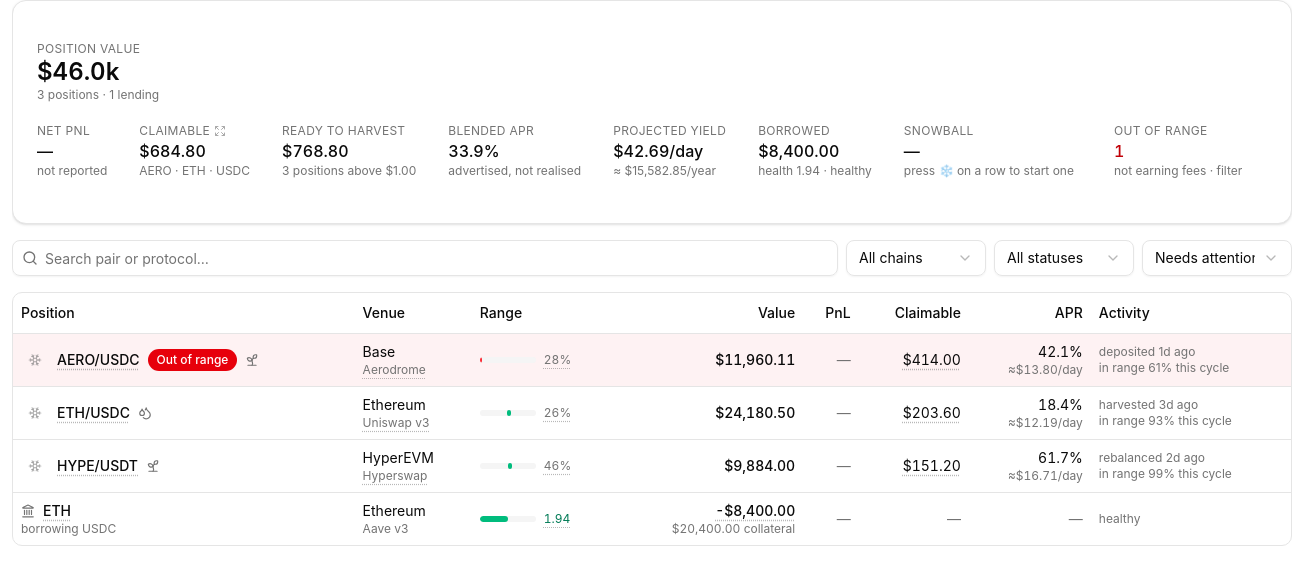
DeFi › shows the snowball total and what this page contributes to it
Expected: the text "Snowball" is shown, [904,123,974,138]
Expected: the text "press ❄ on a row to start one" is shown, [904,163,1074,179]
Click the button named "Add AERO/USDC to snowball".
click(35, 360)  # box [21,346,49,374]
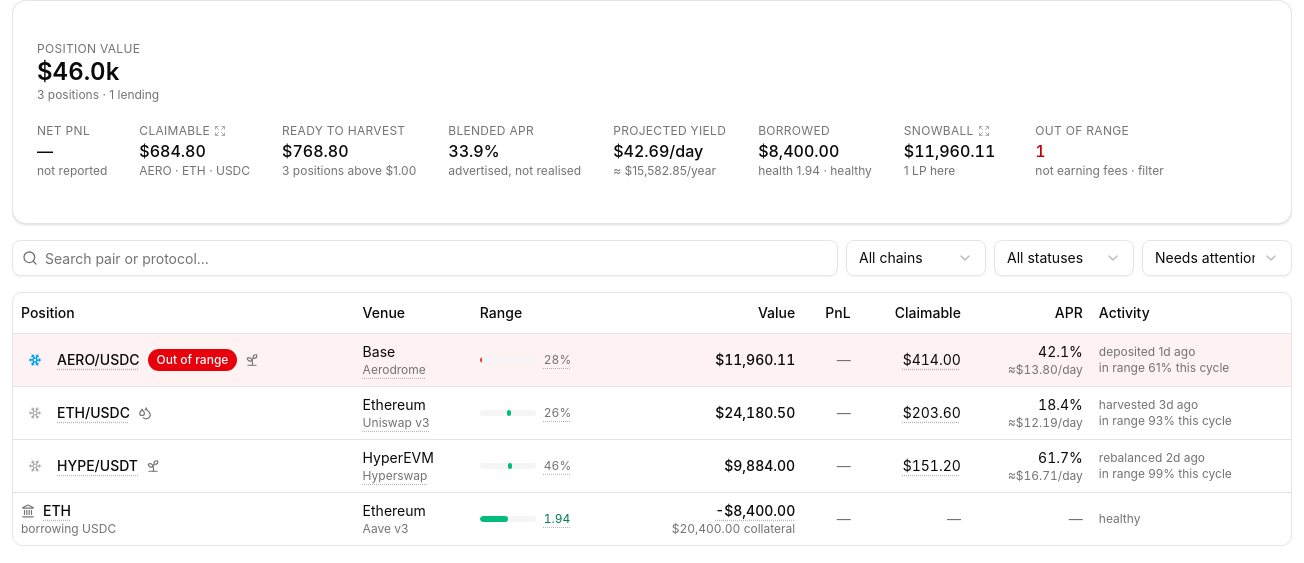
Now the text "1 LP here" is shown, box [904,163,955,178]
